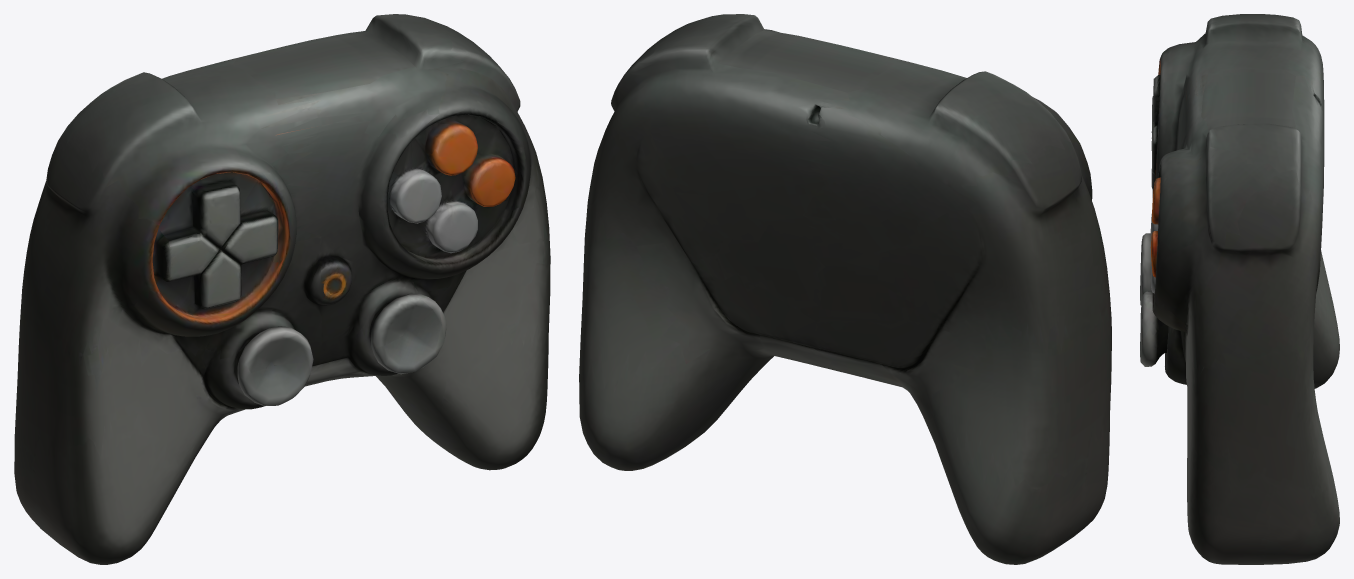
File: emoji-game.glb
3 views of the same model, side by side, from view 1: azimuth 30°, elevation 25°; view 2: azimuth 150°, elevation 25°; view 3: azimuth 270°, elevation 25° (orthographic). The views are drawn at different scales.
Visible parts, largest first — view 1: tripo_node_aa005199-16e6-4de1-8df3-cbff4432d1c0; view 2: tripo_node_aa005199-16e6-4de1-8df3-cbff4432d1c0; view 3: tripo_node_aa005199-16e6-4de1-8df3-cbff4432d1c0.
Part boxes in pixels (x1,y1,x2,y2): tripo_node_aa005199-16e6-4de1-8df3-cbff4432d1c0: (14,14,550,564); tripo_node_aa005199-16e6-4de1-8df3-cbff4432d1c0: (579,14,1111,564); tripo_node_aa005199-16e6-4de1-8df3-cbff4432d1c0: (1140,14,1339,564).
Size of the model in its own units: 0.9801 by 0.8489 by 0.3821.
Materials: 1 (1 with a texture image).
